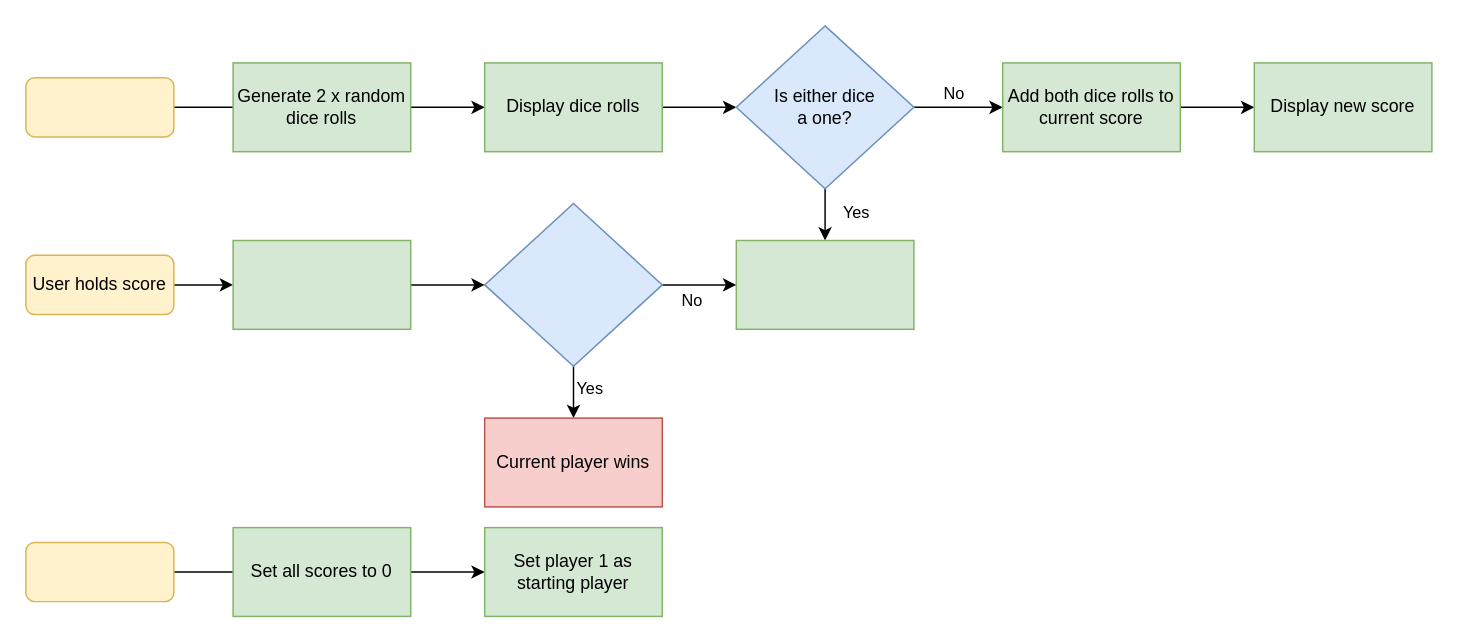
This 1458x642 diagram has some shape labels left out. The centre of each missing label's shape, as x and y in pixels:
"Add current score to total score" goes at pixel 321 284.
"Score >= 100?" goes at pixel 572 284.
"Switch player" goes at pixel 824 284.
"User resets game" goes at pixel 99 571.
"User rolls dice" goes at pixel 99 106.
